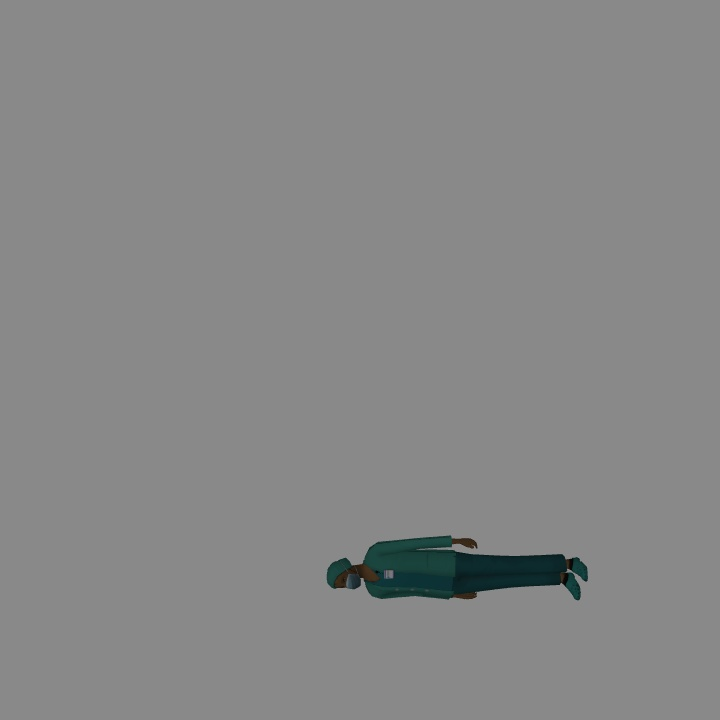victim: (327, 538, 587, 601)
